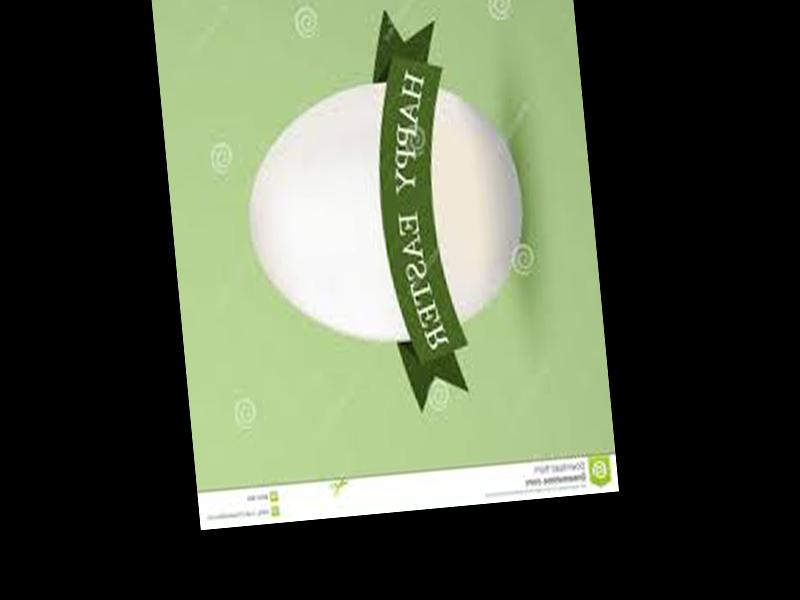Eggs: (238, 73, 532, 355)
